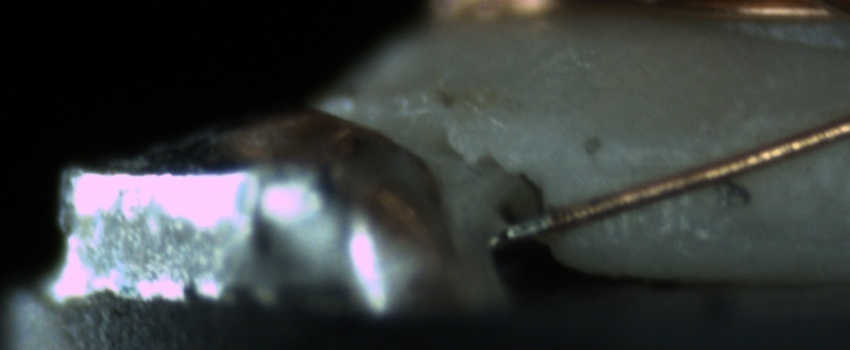DL: (574, 129, 713, 185)
TS: (499, 213, 552, 245)
